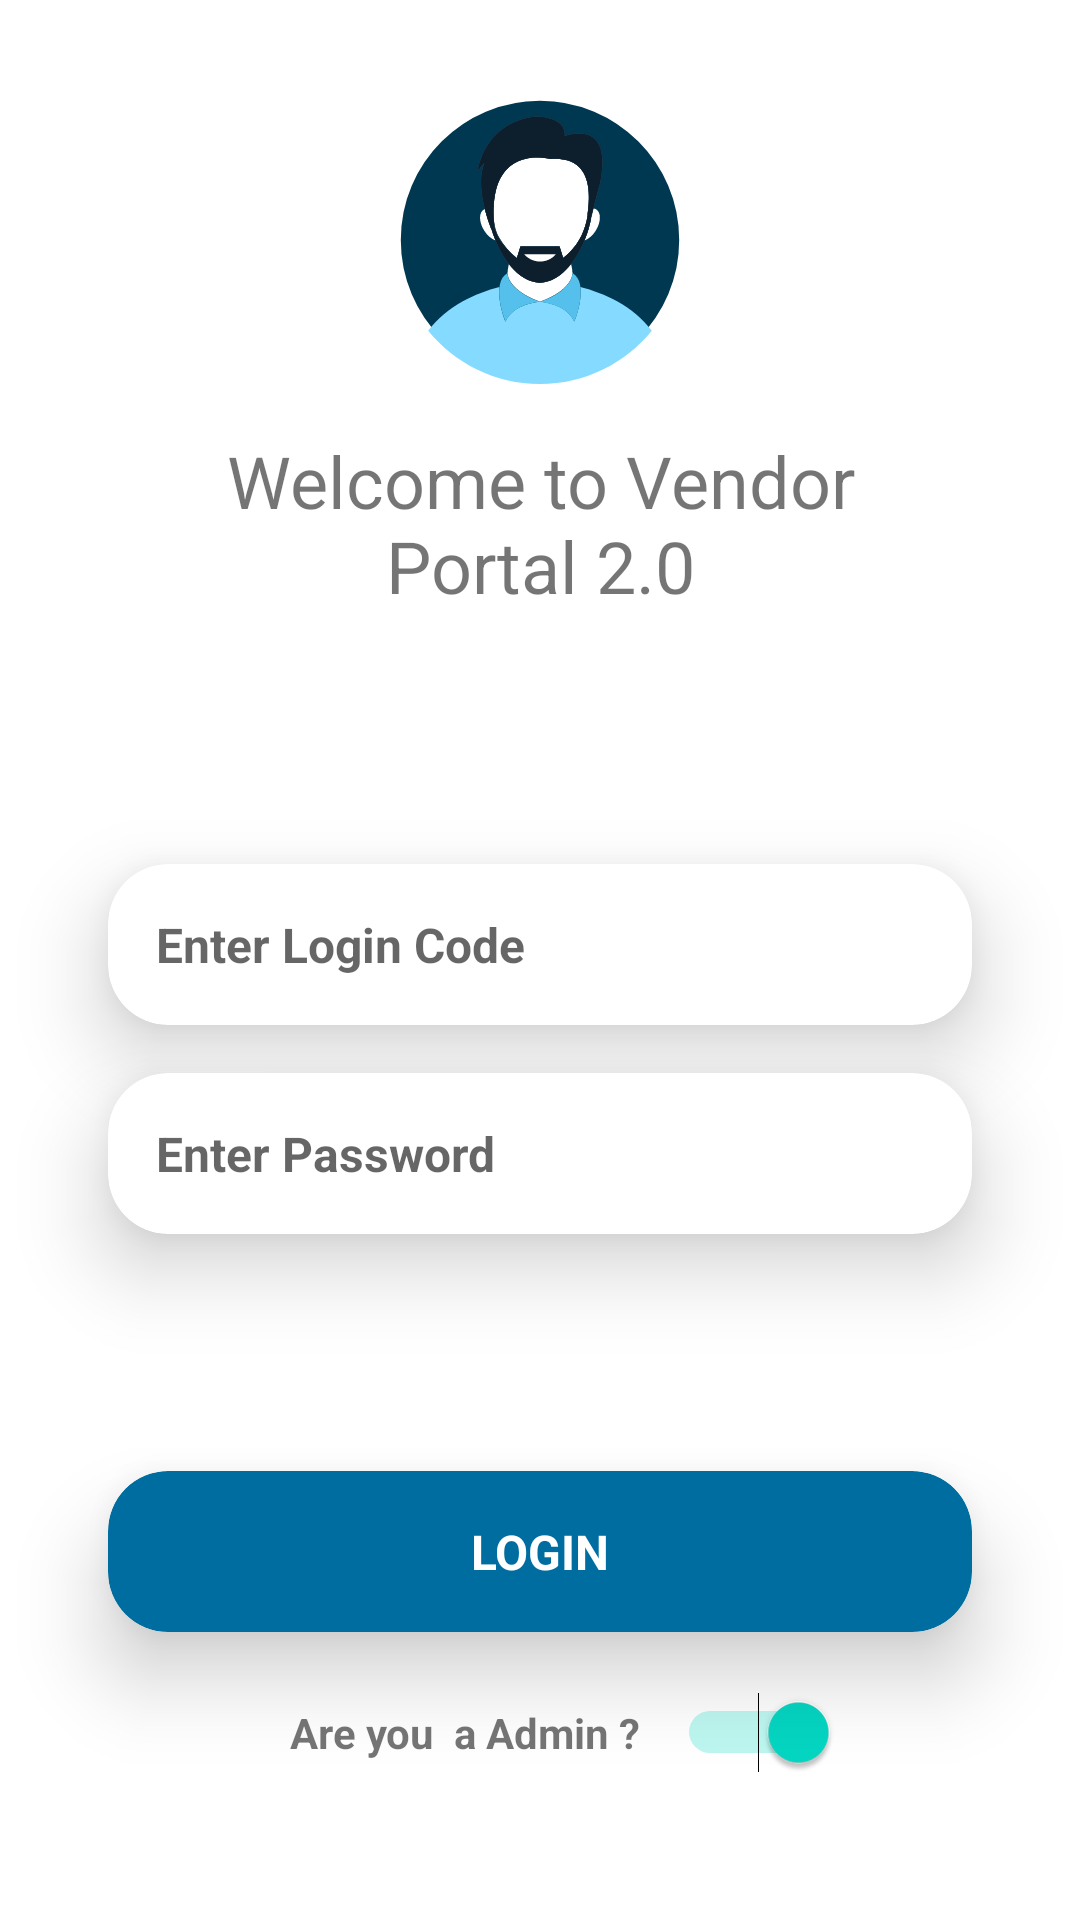

Icons on this 1080px×1920px Android screen, each with its box as region(x1, y1, x2, y2):
profile: region(400, 100, 680, 384)
